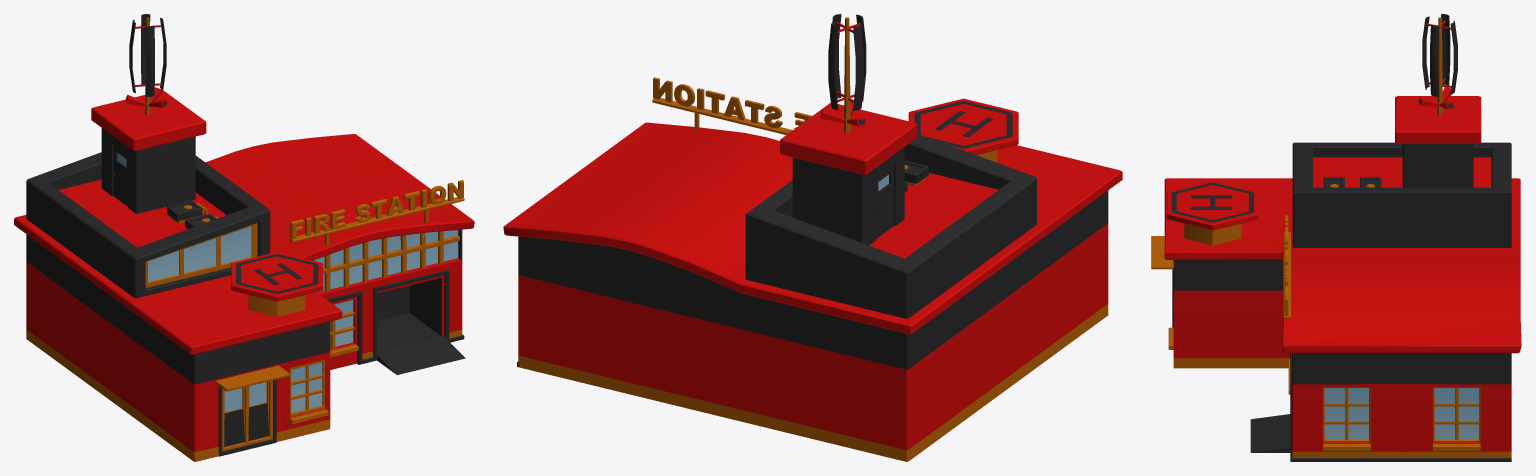
File: Fire_Station.fbx
3 renders of one model, left to right at view 1: azimuth 30°, elevation 25°; view 2: azimuth 150°, elevation 25°; view 3: azimuth 270°, elevation 25°, orthographic. The views are drawn at different scales.
Parts seen in each view (by area): view 1: Fire_Station; view 2: Fire_Station; view 3: Fire_Station.
Boxes of the visible parts, left/top/right/bottom form: Fire_Station: left=14, top=14, right=474, bottom=461; Fire_Station: left=503, top=14, right=1122, bottom=461; Fire_Station: left=1151, top=14, right=1521, bottom=461.
Size of the model in its own units: 1618 by 1469 by 1512.
Materials: 1 (1 with a texture image).
